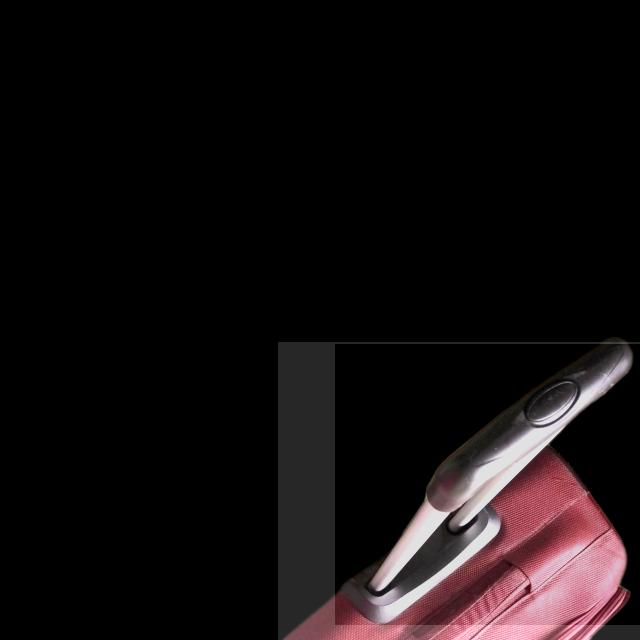Bag: (280, 341, 640, 640)
Handle: (332, 341, 631, 614)
